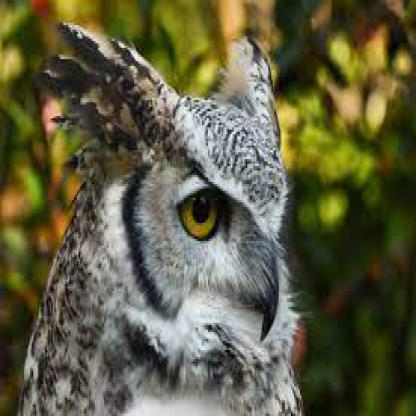owl: (18, 27, 415, 414)
